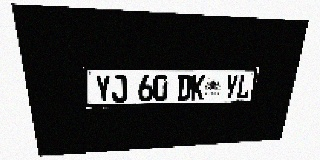0: (153, 75, 168, 101)
6: (138, 75, 153, 102)
D: (177, 75, 192, 101)
J: (111, 75, 127, 102)
K: (190, 75, 206, 100)
L: (236, 75, 252, 99)
Y: (94, 75, 112, 103), (224, 75, 239, 99)
